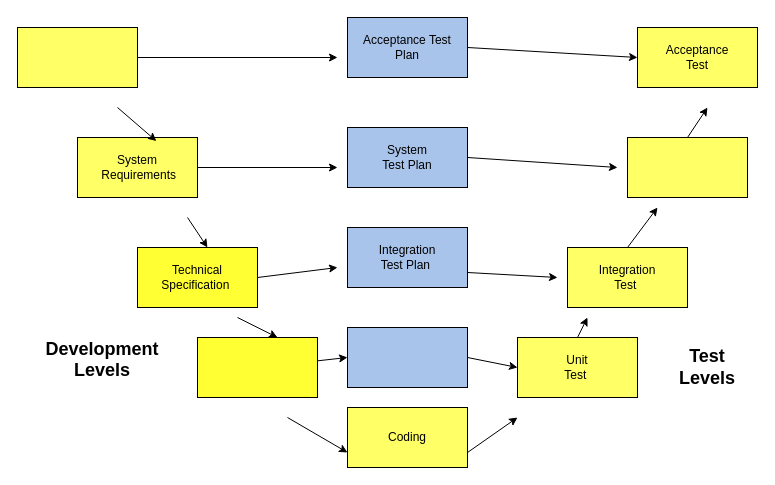
Image size: 775x485. Some labels were removed from this diagram. Each missing label, with the box of its shape:
Program Specification: (196, 336, 318, 398)
System Test: (626, 136, 748, 198)
Unit Test Plan: (346, 326, 468, 388)
User/Business Requirements: (16, 26, 138, 88)
